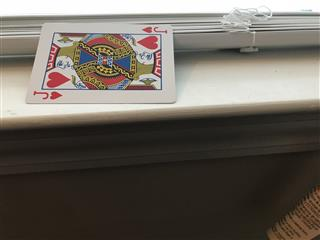JackOfHearts: (24, 21, 177, 103)
